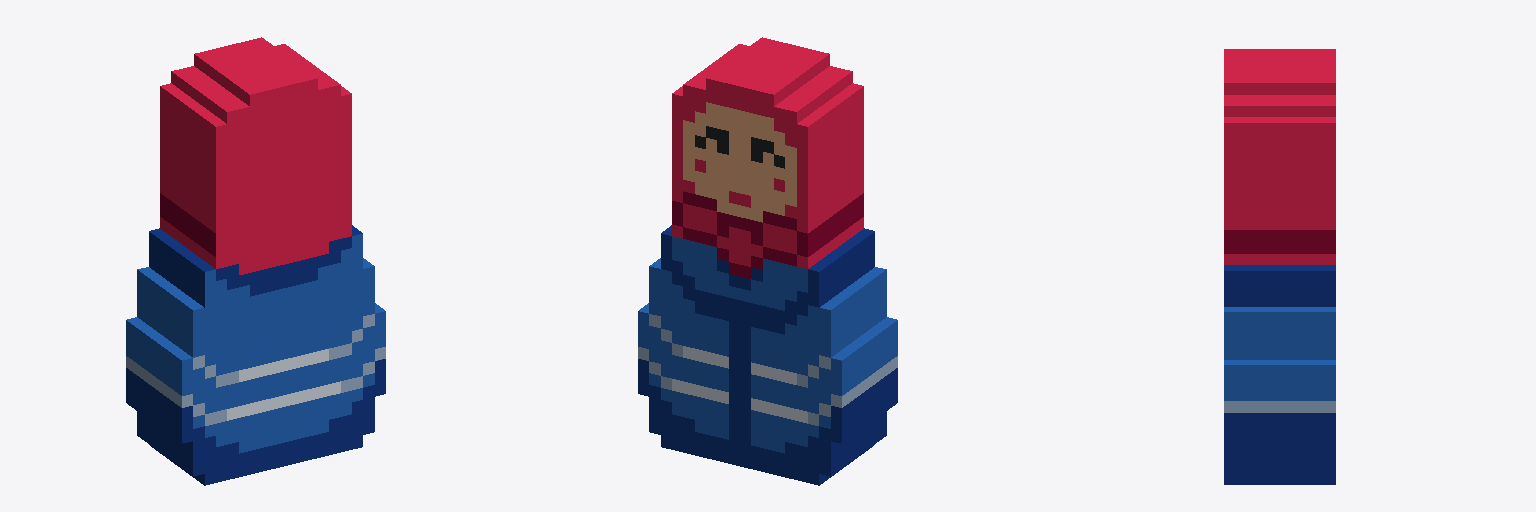
File: RussianNestingDoll.obj
3 renders of one model, left to right at view 1: azimuth 30°, elevation 25°; view 2: azimuth 150°, elevation 25°; view 3: azimuth 270°, elevation 25°, orthographic.
Bounding box in the file's own units: 18 × 32 × 8.55.